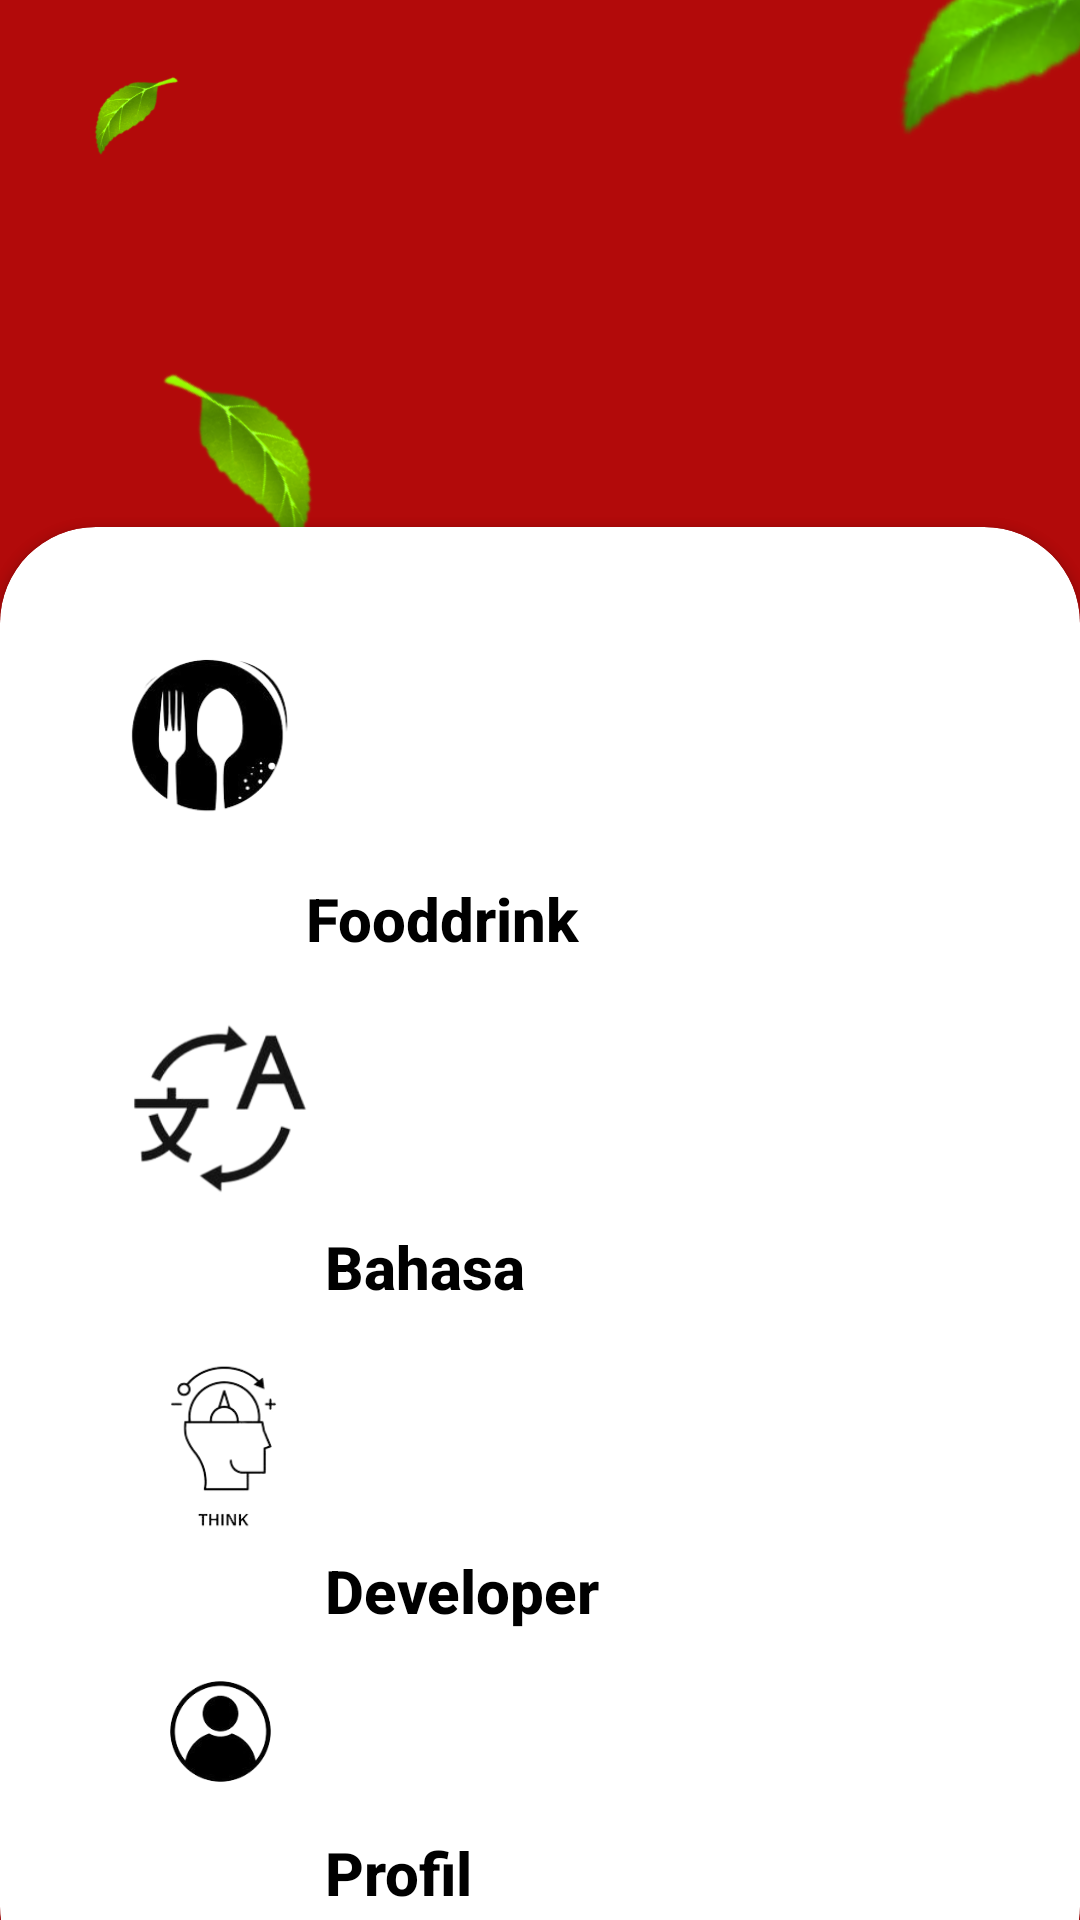

Screen size 1080px x 1920px. Icon name, then its box in pixels as (x1, y1, x2, y2):
makan: (132, 660, 288, 811)
orang: (170, 1681, 271, 1782)
